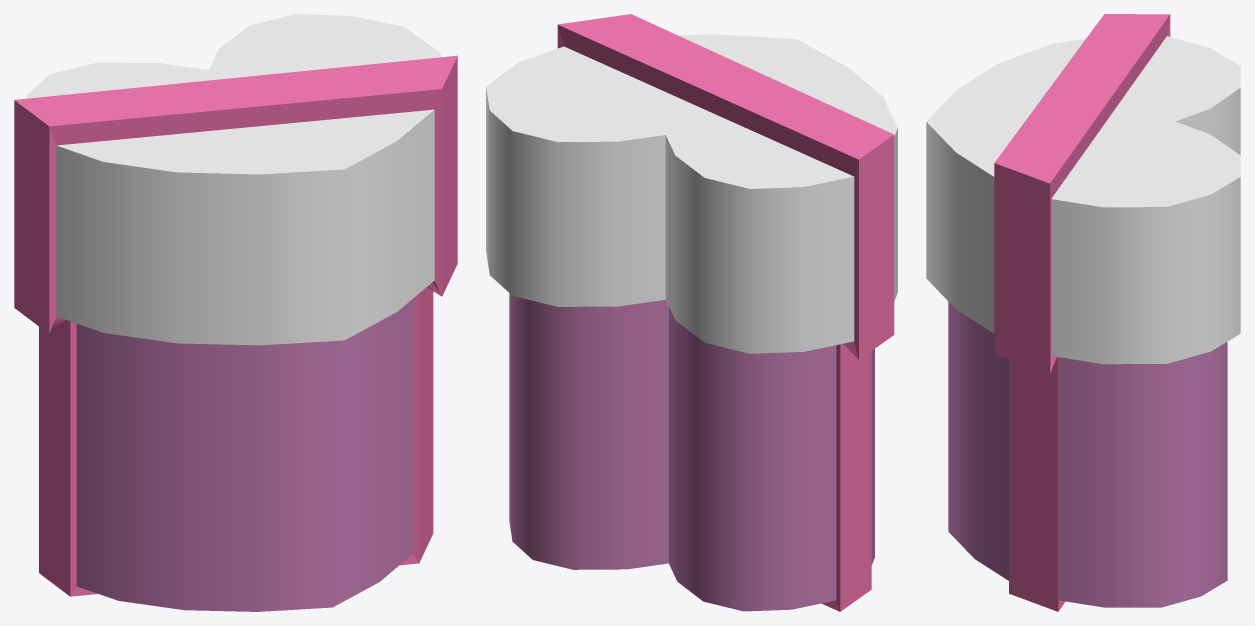
Rendered from Giftbox2-2.fbx.
3 renders of one model, left to right at view 1: azimuth 30°, elevation 25°; view 2: azimuth 150°, elevation 25°; view 3: azimuth 270°, elevation 25°, orthographic. The views are drawn at different scales.
Visible parts, largest first — view 1: Line007; view 2: Line007; view 3: Line007.
Part boxes in pixels (left/top/right/bottom): Line007: left=14, top=14, right=457, bottom=611; Line007: left=486, top=14, right=897, bottom=611; Line007: left=926, top=14, right=1240, bottom=611.
Bounding box in the file's own units: 25.8 × 30.12 × 19.63.
